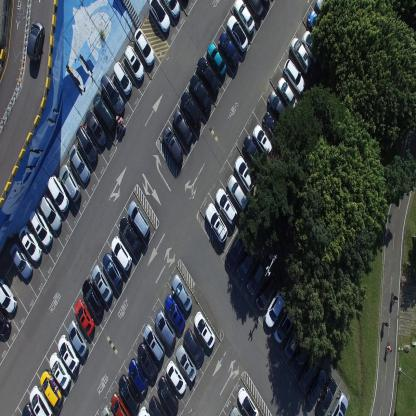car: (100, 72, 124, 115), (204, 201, 228, 243), (117, 217, 141, 258), (188, 73, 212, 114), (29, 207, 53, 248), (224, 228, 247, 269), (196, 55, 219, 96), (92, 92, 115, 133), (142, 323, 166, 362), (68, 143, 90, 185), (193, 310, 216, 350), (126, 200, 149, 240), (233, 154, 256, 194), (75, 125, 98, 165), (314, 375, 337, 415), (39, 369, 62, 409), (18, 225, 42, 263), (59, 162, 81, 203), (67, 318, 89, 359), (117, 374, 140, 413), (154, 308, 176, 348), (215, 186, 237, 226), (180, 90, 202, 130), (133, 27, 155, 67), (85, 108, 107, 148), (57, 333, 79, 373), (47, 174, 70, 212), (39, 193, 62, 231), (48, 352, 71, 390), (136, 341, 158, 380), (157, 375, 179, 414), (226, 173, 248, 212), (226, 14, 248, 53), (162, 125, 184, 164), (91, 264, 113, 303), (82, 278, 103, 318), (170, 274, 192, 312), (264, 289, 286, 327), (255, 272, 277, 310), (246, 257, 268, 295), (243, 134, 265, 172), (283, 56, 305, 94), (218, 30, 240, 68), (10, 242, 32, 280), (26, 18, 44, 64), (124, 44, 145, 83), (182, 328, 204, 365), (236, 244, 258, 281), (306, 9, 328, 46), (233, 0, 255, 37), (298, 354, 320, 391), (306, 367, 326, 407), (29, 383, 54, 415), (110, 236, 132, 272), (127, 358, 148, 395), (164, 294, 184, 332), (102, 252, 122, 290), (176, 344, 196, 382), (74, 299, 94, 337), (290, 337, 311, 373), (262, 110, 284, 144), (267, 90, 289, 124), (302, 29, 322, 66), (284, 322, 304, 359), (290, 35, 311, 70), (277, 76, 297, 112), (206, 41, 226, 77), (172, 109, 192, 145), (149, 0, 170, 34), (314, 0, 336, 32), (274, 308, 294, 343), (166, 359, 186, 394), (113, 60, 132, 96), (238, 386, 260, 416), (252, 124, 272, 157), (0, 277, 17, 315), (326, 392, 349, 416), (109, 391, 130, 416), (148, 396, 167, 415), (245, 0, 263, 20), (162, 0, 180, 19), (0, 307, 11, 338), (22, 402, 36, 415), (229, 403, 242, 415), (100, 404, 113, 415), (138, 404, 149, 415)
